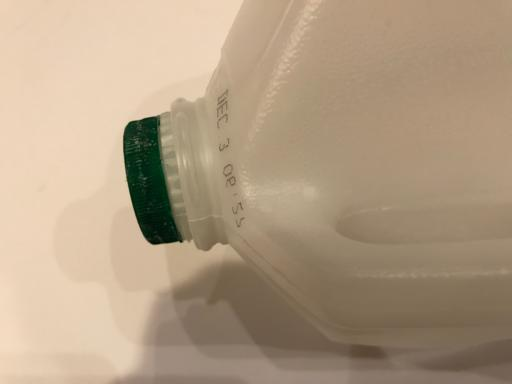plastic: (120, 9, 511, 349)
